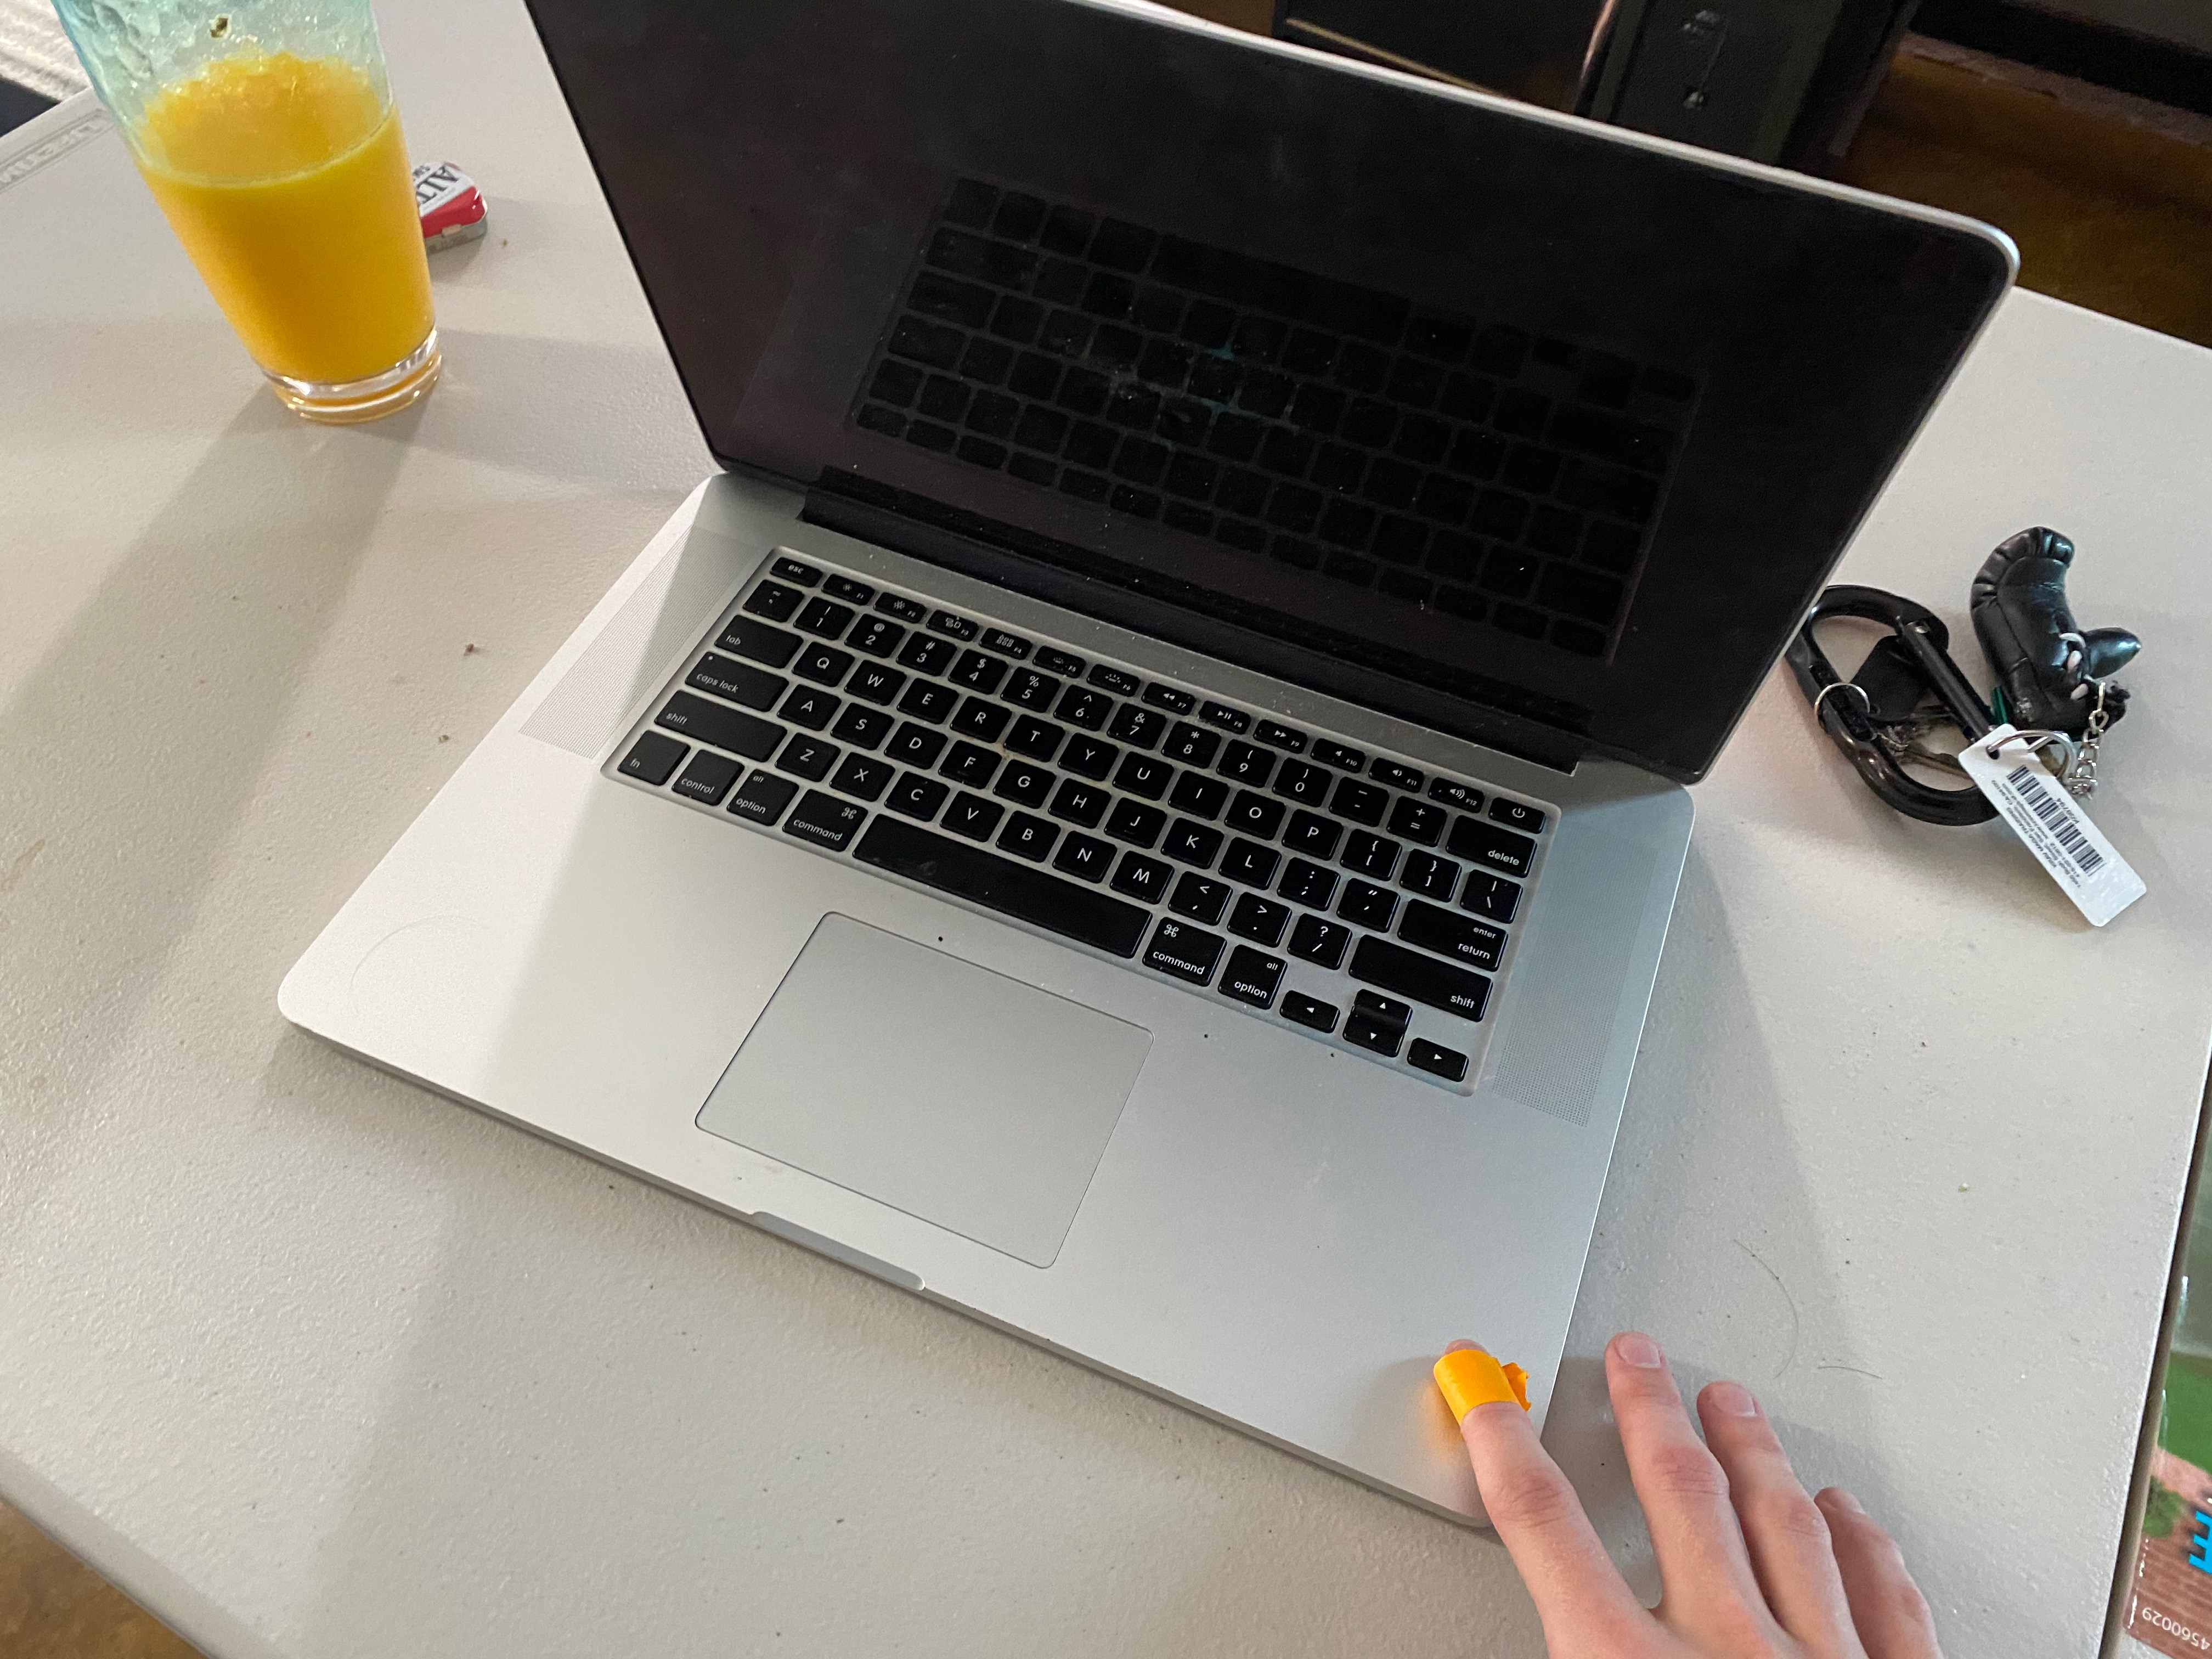fingertip: (1416, 1335, 1545, 1438)
